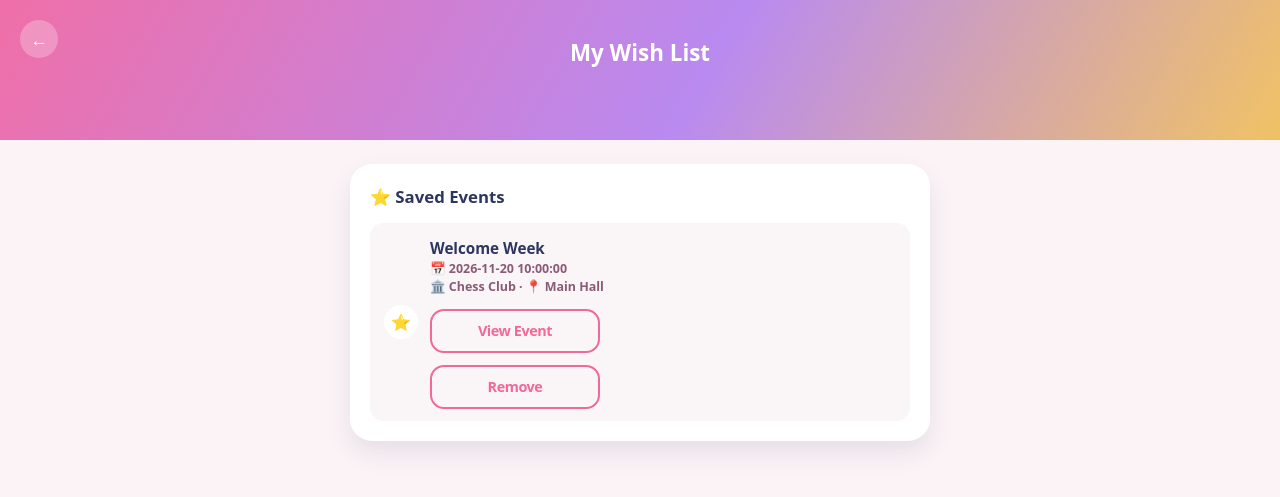
Test case: SavedEventsPage (wish list) › the Remove button is disabled while a request is running, so it is sent only once
Later steps or results of the test are not shown.
Click the button "Remove" at (515, 387), box [430,365,600,409]
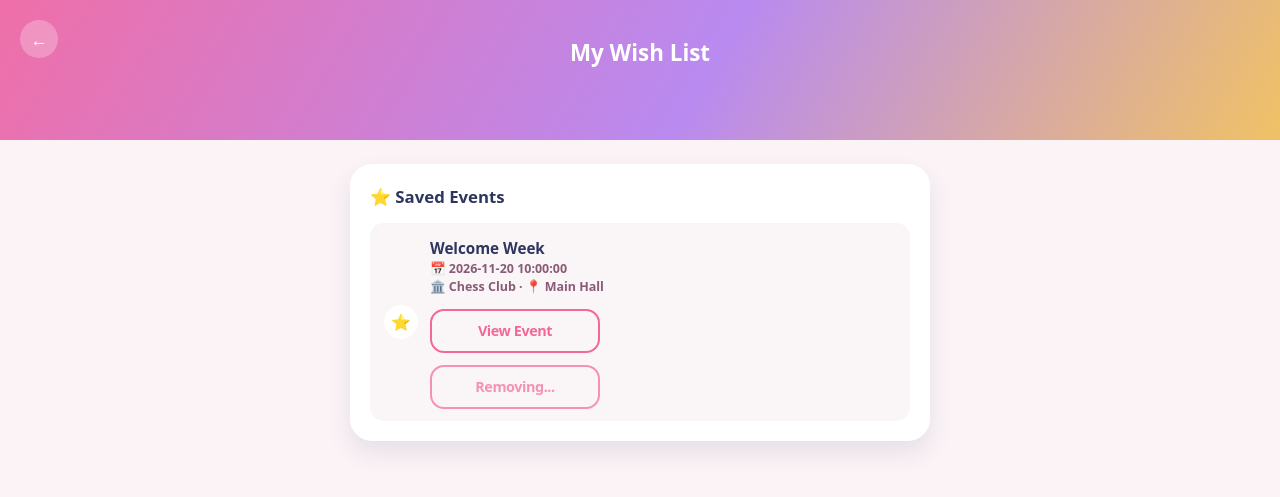
Click the button named "Remove" at (515, 387), box [430,365,600,409]
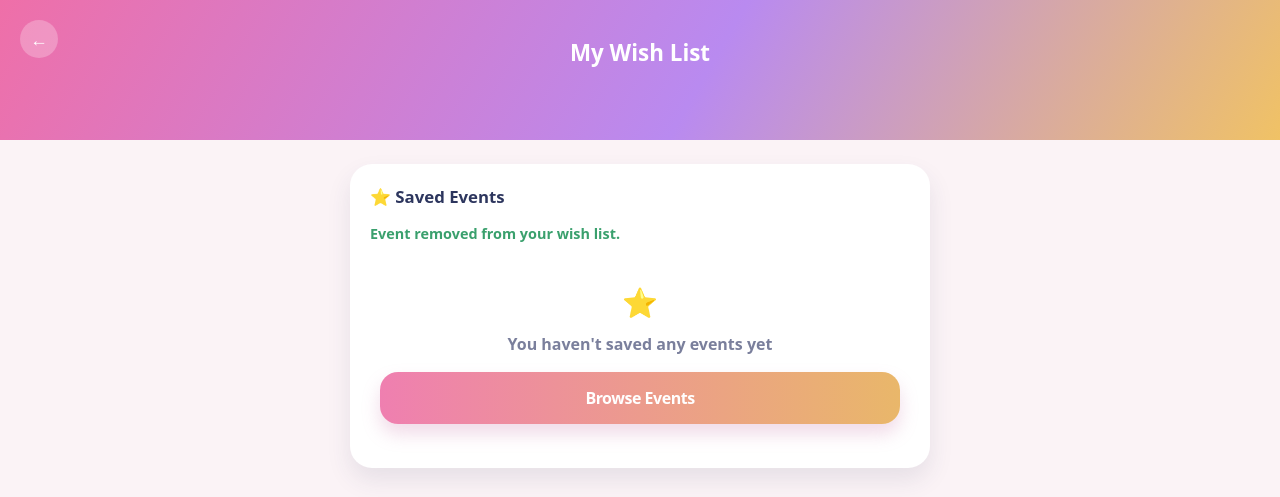
Expected: the text "Event removed from your wish list." is shown, [370,224,620,243]
